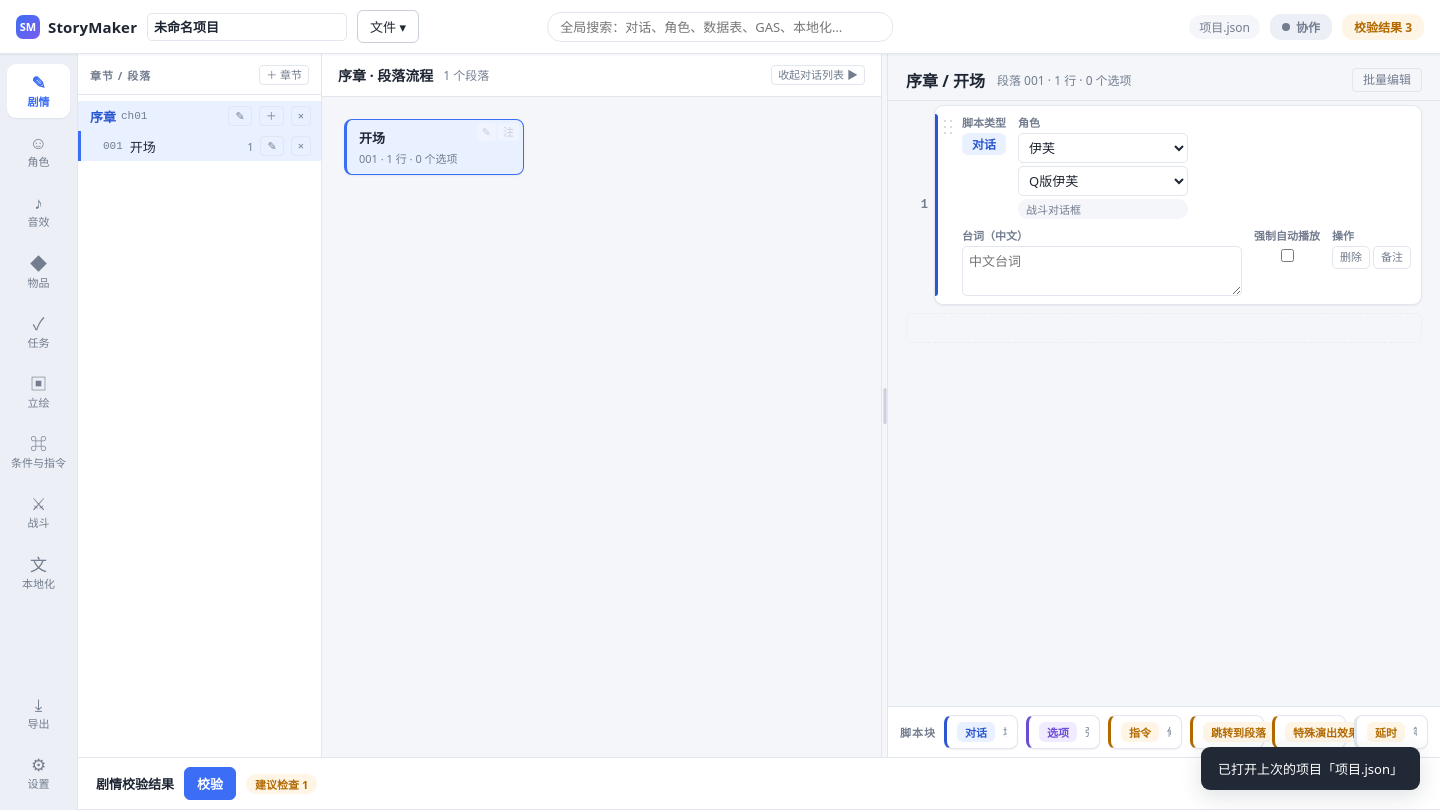
Test case: 界面冒烟测试 › 本地化模块：角色名本地化 › 改默认名称的中文写回角色表，改别名中文写回别名
Expected: the field titled "项目名称，也是导出文件名" is shown, [147, 12, 347, 40]
Click the text "本地化" at (38, 583), box [22, 576, 55, 590]
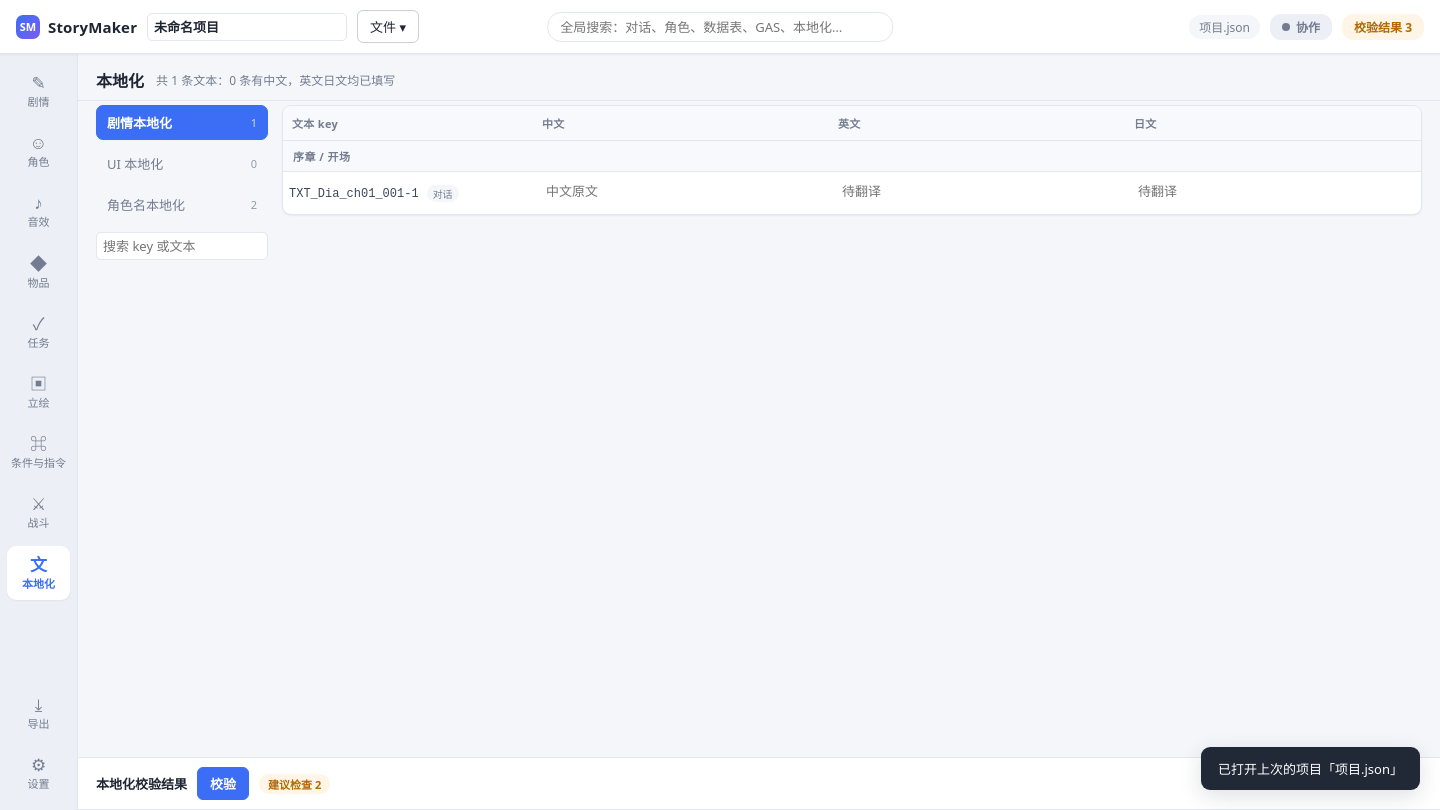
Click the button "角色名本地化 2" at (182, 204), box [96, 187, 268, 222]
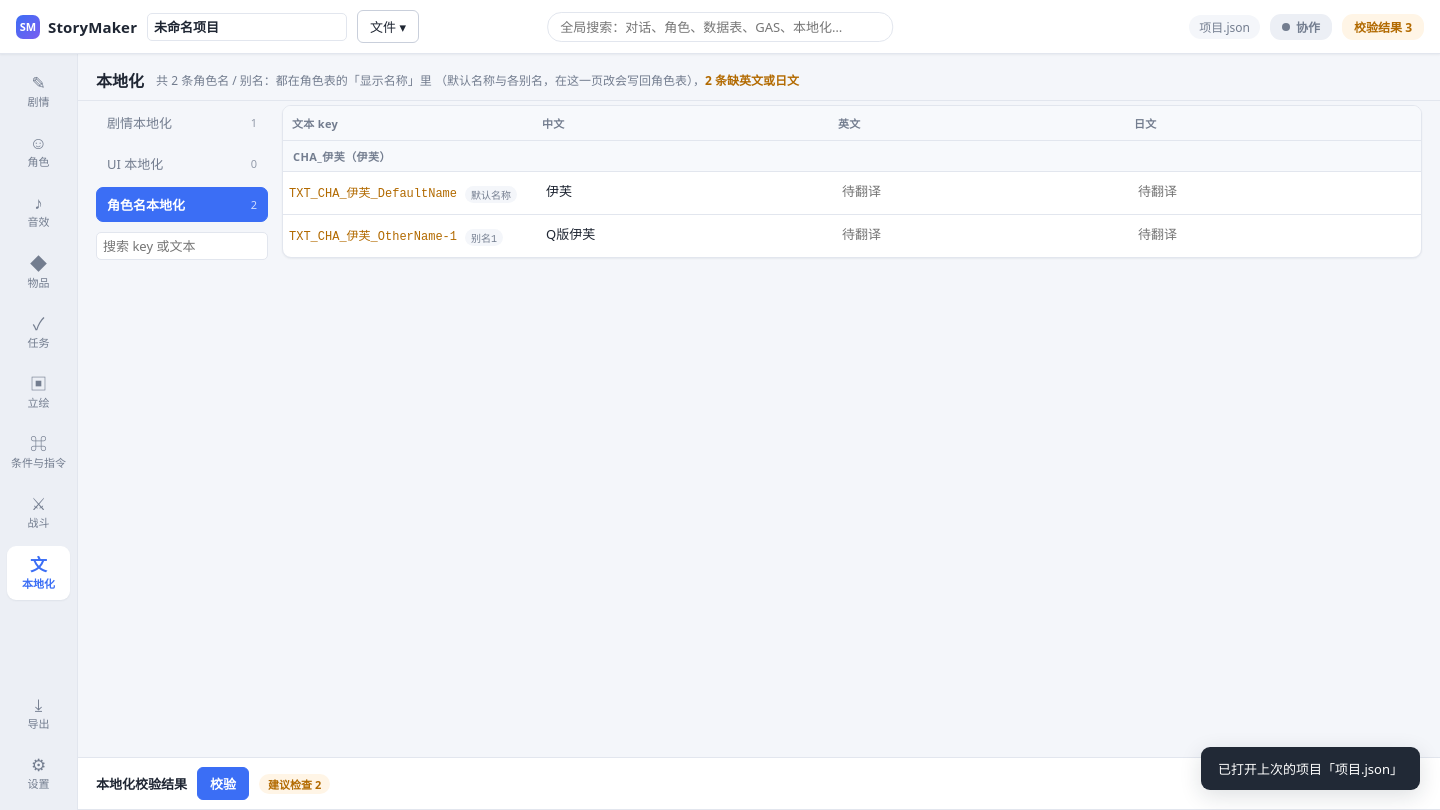
第一行是默认名称，第二行是别名1
Replace the text in the text box named "中文改的是角色表「显示名称」里的默认名称 / 别名文字" in the row of "TXT_CHA_伊芙_DefaultName" with "伊芙（新）" at (681, 191), box [539, 176, 823, 206]
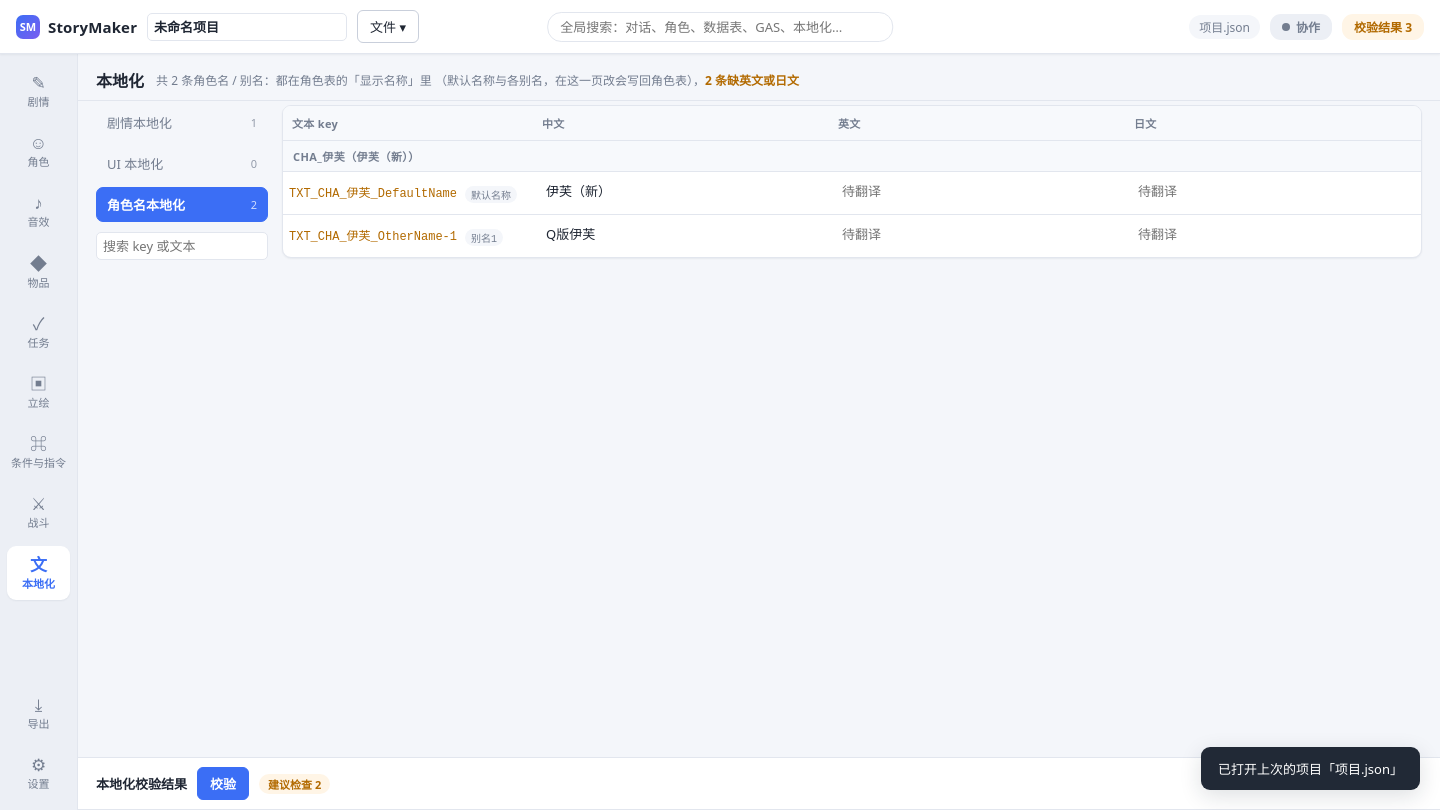
Type "Eve" into the 1st text box with placeholder "待翻译" at (977, 191), box [835, 176, 1119, 206]
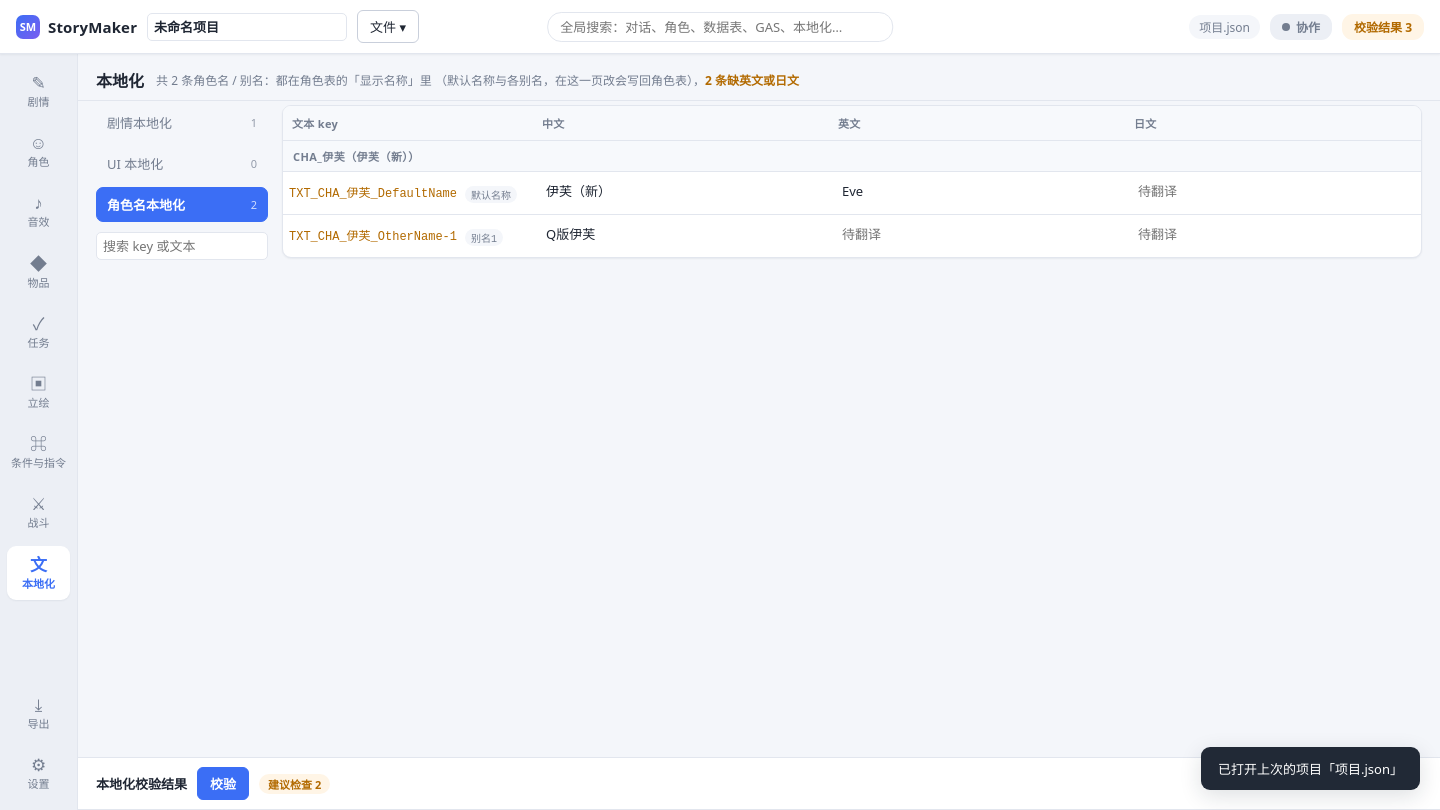
Replace the text in the text box named "中文改的是角色表「显示名称」里的默认名称 / 别名文字" in the row of "TXT_CHA_伊芙_OtherName-1" with "Q版伊芙（新）" at (681, 234), box [539, 219, 823, 249]
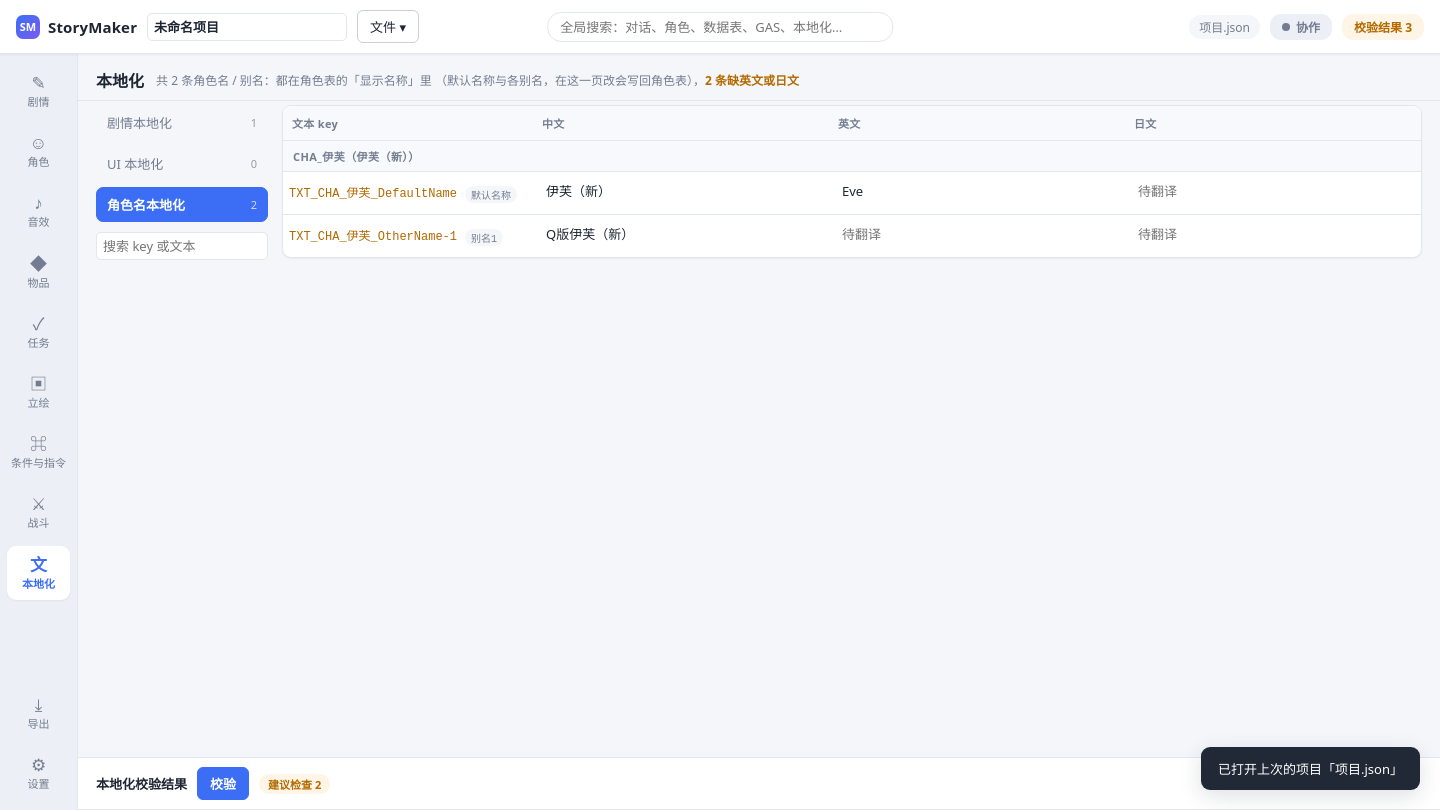
切到角色表核对：默认名称与别名都是刚改的
Click the text "角色" at (38, 162), box [28, 155, 50, 168]
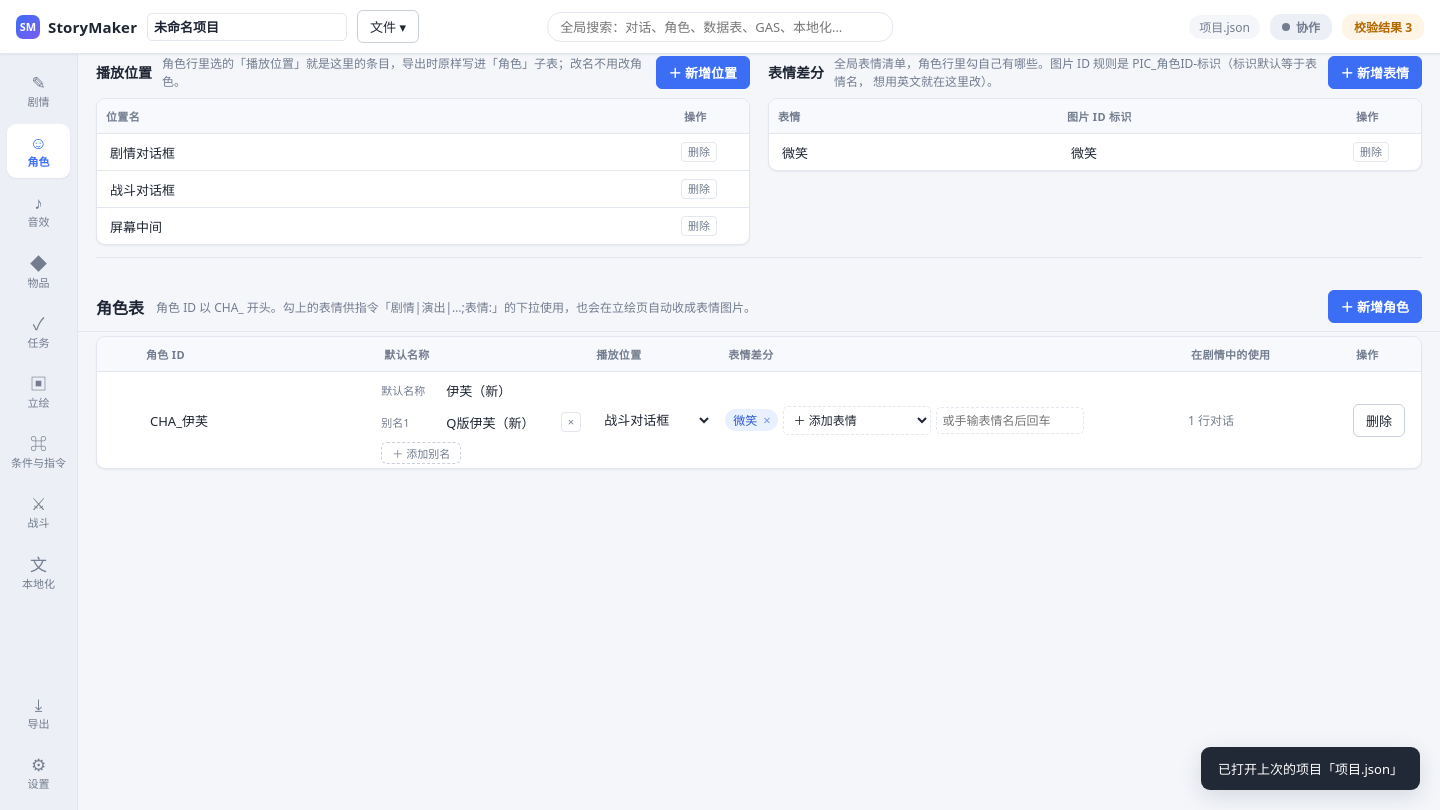
Now the 5th field showing "伊芙（新）" is shown, box [439, 376, 581, 404]
Now the 7th field showing "Q版伊芙（新）" is shown, box [439, 408, 555, 436]
